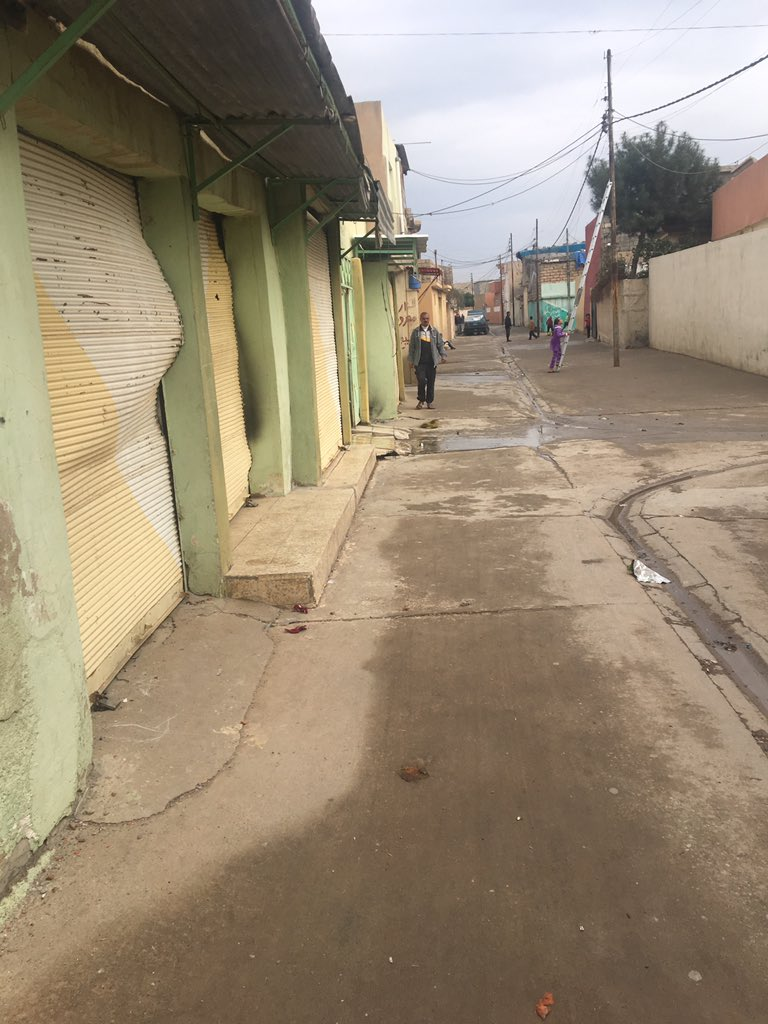person: (407, 306, 450, 403), (547, 311, 568, 373)
tree: (591, 117, 715, 250)
water: (417, 430, 521, 447)
